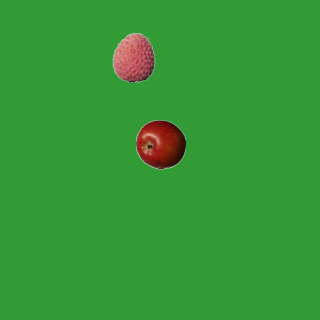Apple Braeburn: (135, 119, 185, 169)
Lychee: (108, 32, 158, 82)
